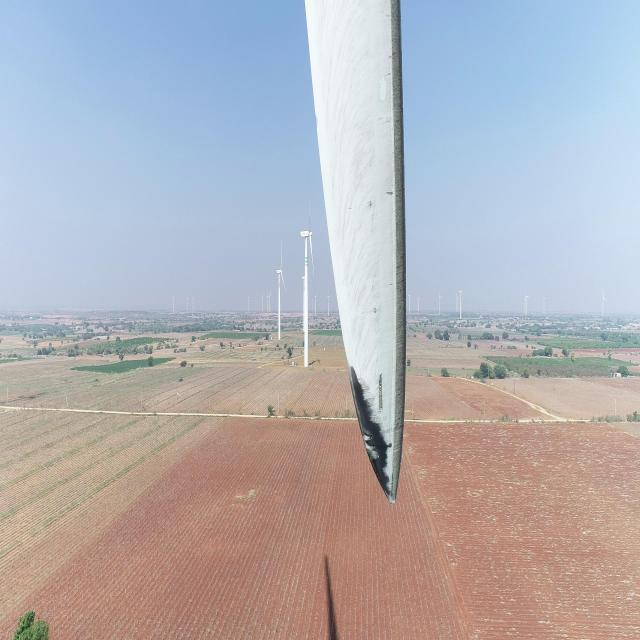Dirt: (341, 8, 409, 481)
Oil LEAKAGE: (350, 366, 394, 502)
